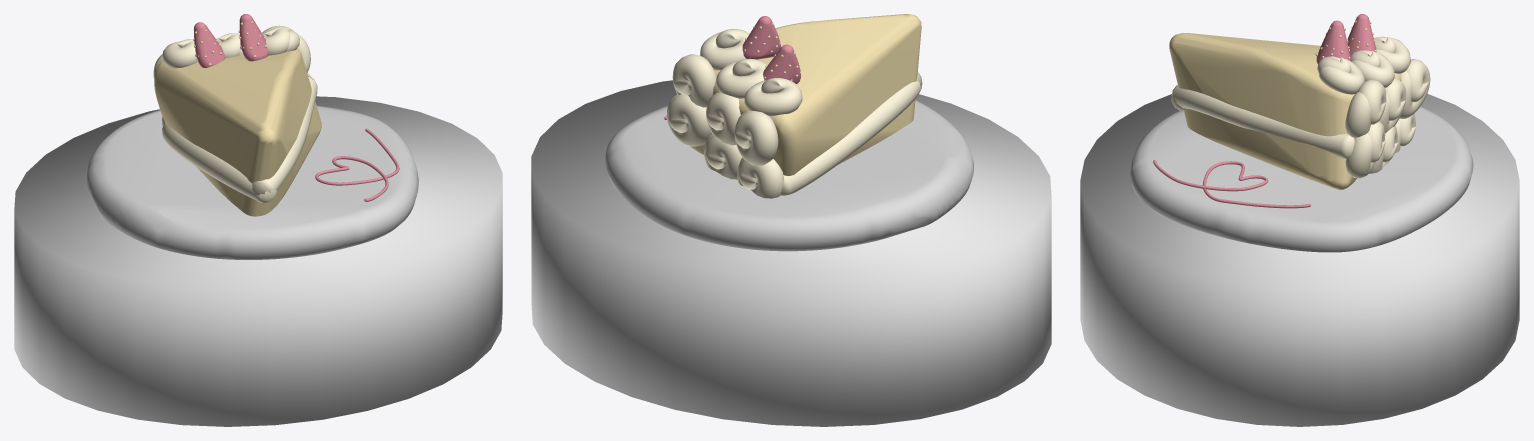
The model's file is cake.glb.
3 views of the same model, side by side, from view 1: azimuth 30°, elevation 25°; view 2: azimuth 150°, elevation 25°; view 3: azimuth 270°, elevation 25° (orthographic). The views are drawn at different scales.
Parts seen in each view (by area): view 1: Circle, cake; view 2: Circle, cake; view 3: Circle, cake.
Part boxes in pixels (x1,y1,x2,y2): Circle: (14,96,502,426); cake: (86,14,418,259); Circle: (531,80,1051,426); cake: (604,14,973,251); Circle: (1080,94,1519,426); cake: (1130,14,1473,252).
Bounding box in the file's own units: 2 × 1.31 × 1.73.
